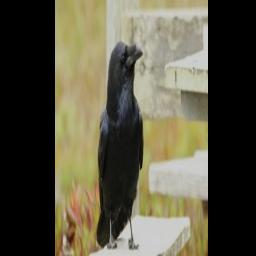Crow: (96, 39, 145, 250)
